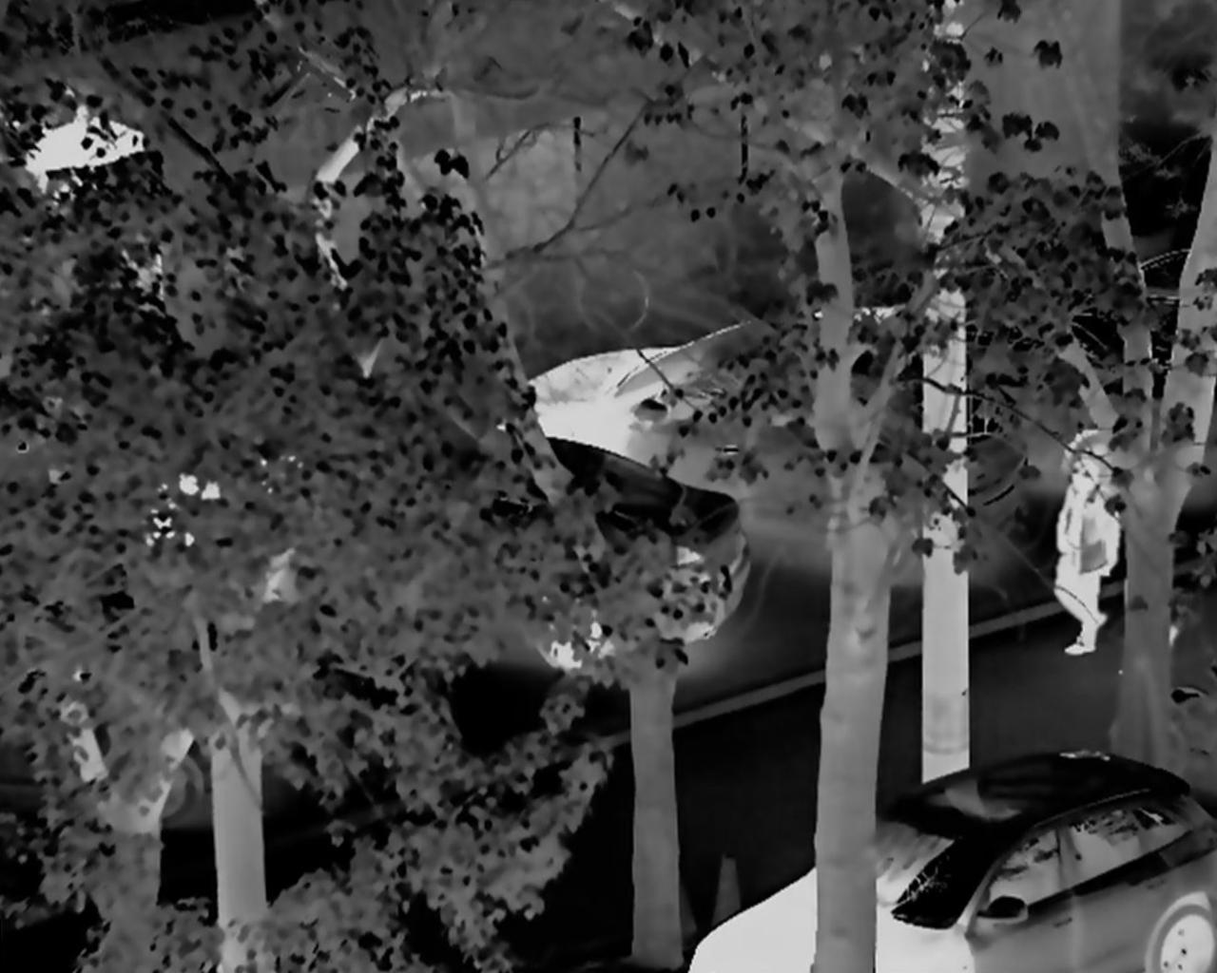person: (1048, 445, 1117, 656)
